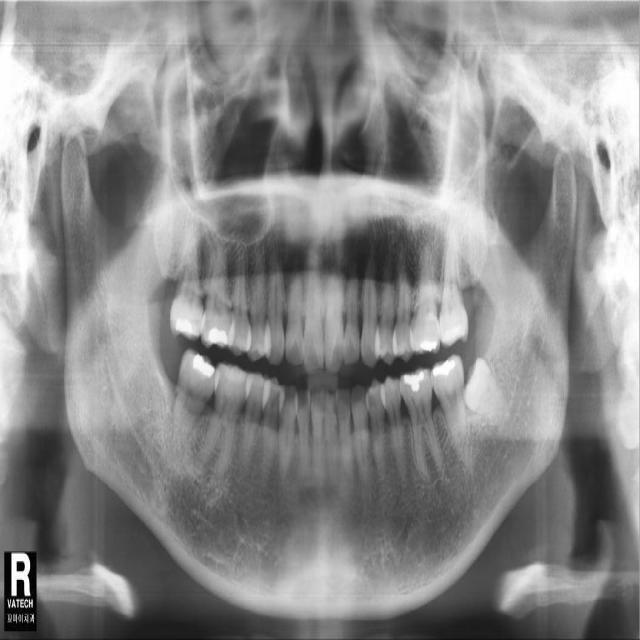52: (188, 353, 217, 381), (430, 356, 459, 382), (403, 370, 427, 394), (173, 317, 197, 338), (208, 327, 228, 344), (420, 341, 437, 352)
73: (590, 595, 598, 601)
BioHorizons Implant: (437, 218, 477, 349)
Biomet 3i Implant: (450, 355, 517, 437)
Blue Sky Bio Implant: (430, 355, 469, 452)
Caries: (168, 224, 205, 341)
Implant: (166, 348, 224, 456)
